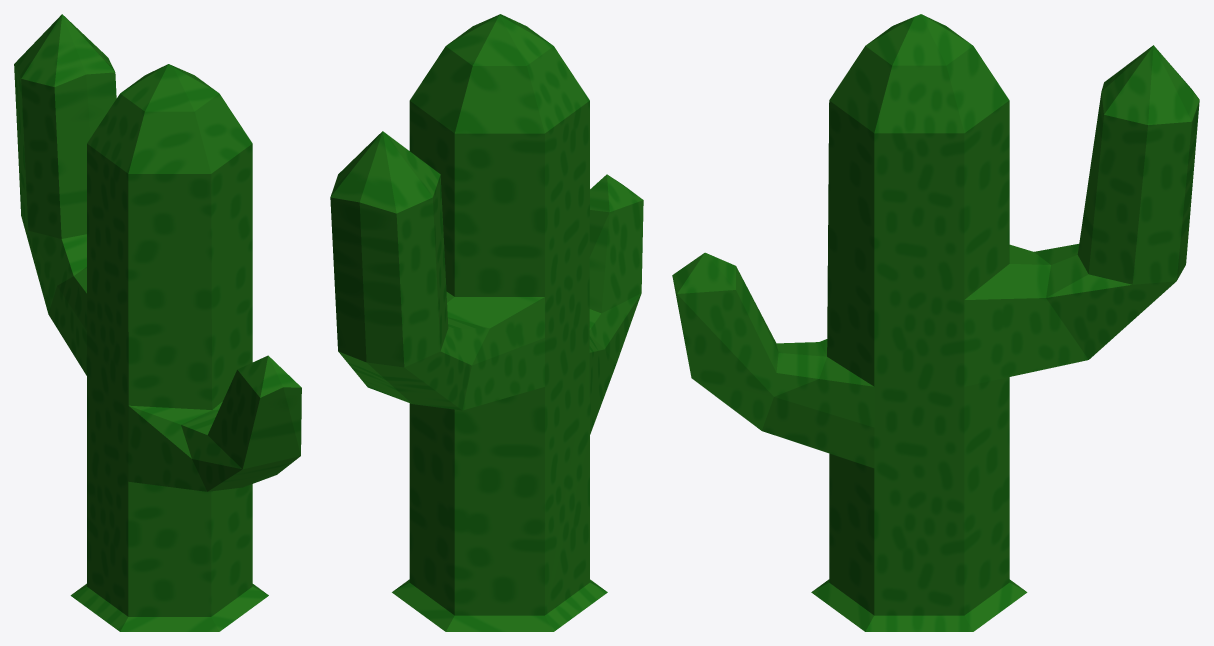
The model's file is Cactise_LOD1.fbx.
The picture shows the model from 3 angles, left to right: view 1: azimuth 30°, elevation 25°; view 2: azimuth 150°, elevation 25°; view 3: azimuth 270°, elevation 25°; orthographic projection. The views are drawn at different scales.
Parts seen in each view (by area): view 1: Cactise_2_LOD1; view 2: Cactise_2_LOD1; view 3: Cactise_2_LOD1.
Part boxes in pixels (left/top/right/bottom): Cactise_2_LOD1: left=14, top=14, right=301, bottom=631; Cactise_2_LOD1: left=330, top=14, right=643, bottom=631; Cactise_2_LOD1: left=672, top=14, right=1199, bottom=631.
Bounding box in the file's own units: 62.35 × 212 × 175.
1 material, 1 textured.
